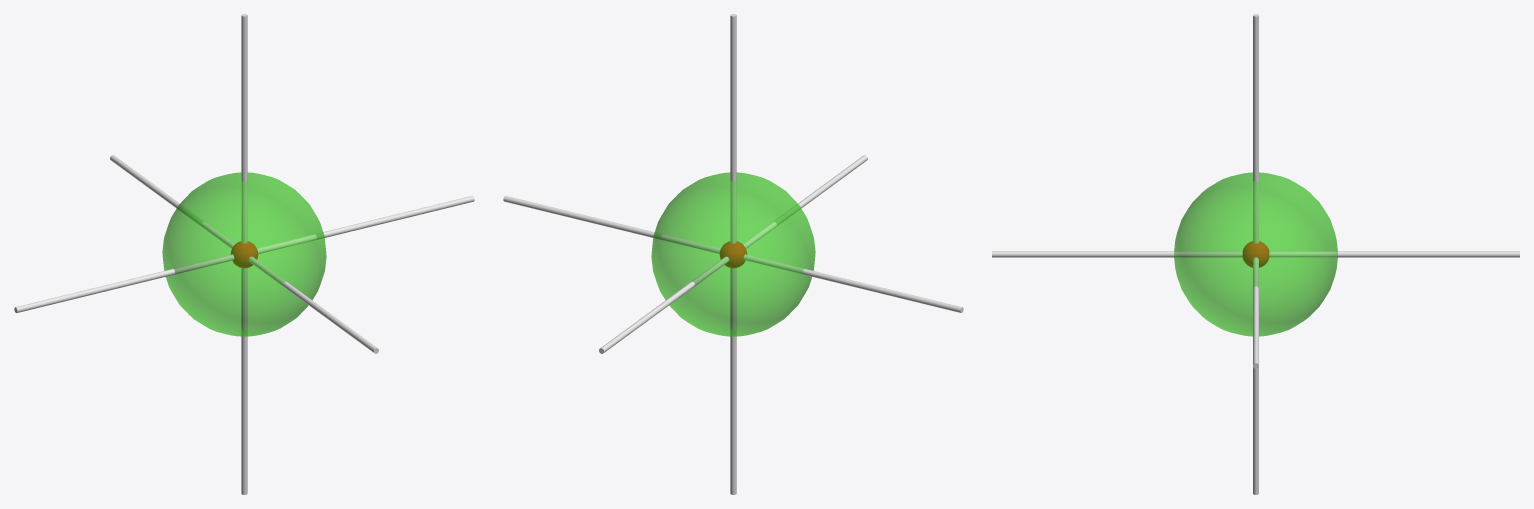
File: orbital_s.glb
The picture shows the model from 3 angles, left to right: view 1: azimuth 30°, elevation 25°; view 2: azimuth 150°, elevation 25°; view 3: azimuth 270°, elevation 25°; orthographic projection.
Visible parts, largest first — view 1: Sphere.001, Cylinder, Cylinder.002, Cylinder.001, Sphere; view 2: Sphere.001, Cylinder, Cylinder.002, Cylinder.001, Sphere; view 3: Sphere.001, Cylinder.001, Cylinder, Cylinder.002.
Part boxes in pixels (box(x1,y1,x2,y2)): Sphere.001: box(162, 172, 326, 336); Cylinder: box(241, 14, 247, 494); Cylinder.002: box(14, 196, 474, 312); Cylinder.001: box(110, 155, 378, 353); Sphere: box(231, 241, 258, 268); Sphere.001: box(651, 172, 815, 336); Cylinder: box(730, 14, 736, 494); Cylinder.002: box(503, 196, 963, 312); Cylinder.001: box(599, 155, 867, 353); Sphere: box(719, 241, 746, 268); Sphere.001: box(1174, 172, 1337, 336); Cylinder.001: box(992, 251, 1519, 257); Cylinder: box(1253, 14, 1258, 494); Cylinder.002: box(1253, 257, 1258, 368).
Size of the model in its own units: 6.42 by 6.42 by 6.42.
